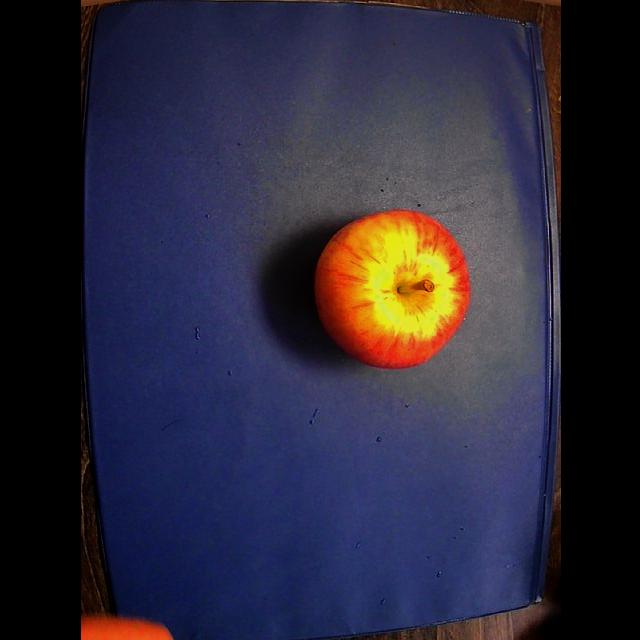manzana: (314, 211, 468, 368)
